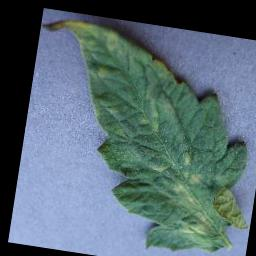Leaf_Mold: (165, 169, 219, 239), (39, 15, 90, 39)
